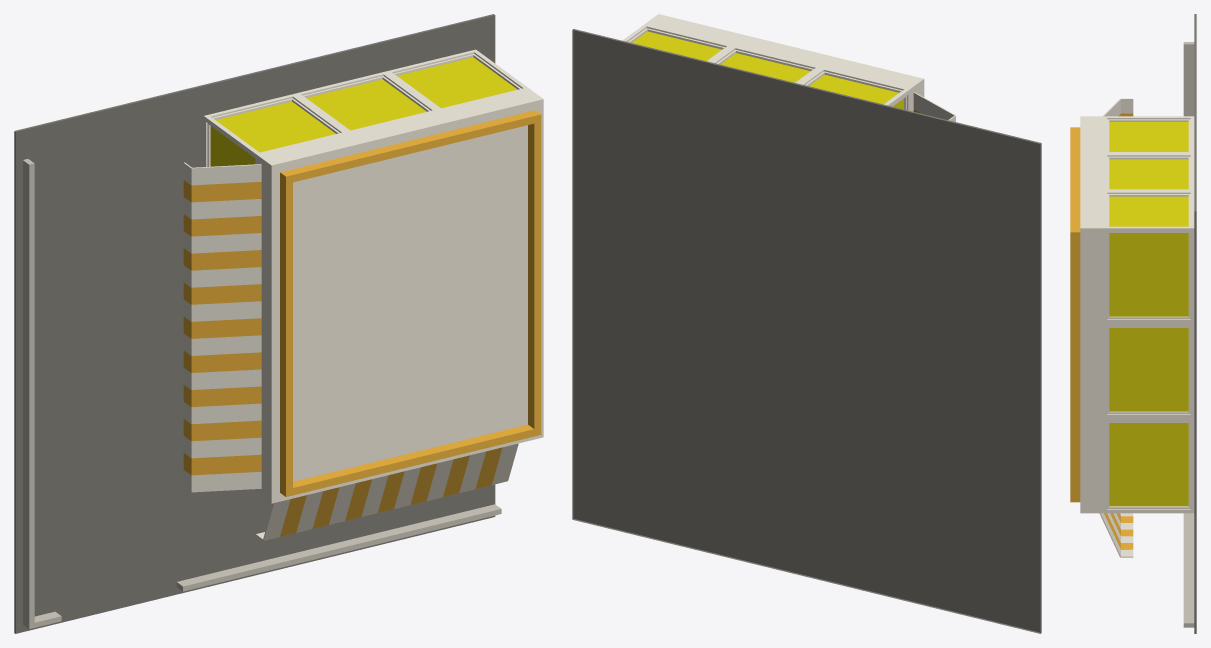
The model's file is Restaurant_04.fbx.
3 views of the same model, side by side, from view 1: azimuth 30°, elevation 25°; view 2: azimuth 150°, elevation 25°; view 3: azimuth 270°, elevation 25° (orthographic). The views are drawn at different scales.
Parts seen in each view (by area): view 1: Restaurant_04; view 2: Restaurant_04; view 3: Restaurant_04.
Boxes of the visible parts, box(x1,y1,x2,y2) form: Restaurant_04: box(14, 14, 543, 633); Restaurant_04: box(572, 14, 1041, 633); Restaurant_04: box(1070, 14, 1196, 633).
Bounding box in the file's own units: 200 × 200 × 54.29.
